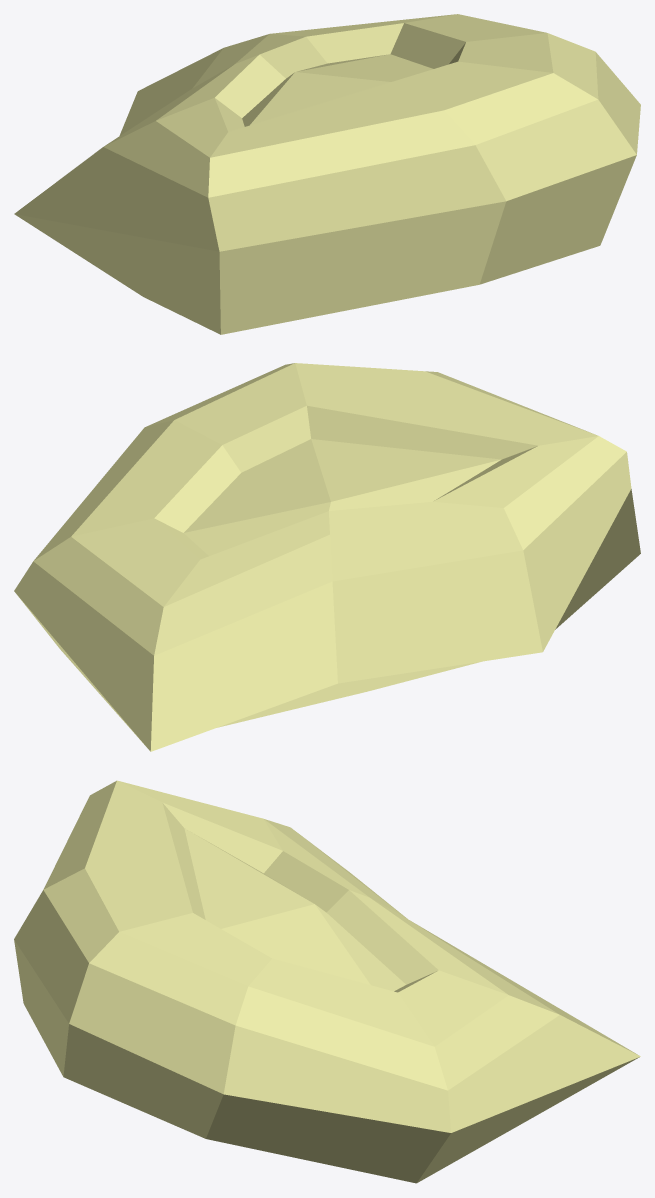
The model's file is Rock_A.FBX.
The picture shows the model from 3 angles, top to bottom: view 1: azimuth 30°, elevation 25°; view 2: azimuth 150°, elevation 25°; view 3: azimuth 270°, elevation 25°; orthographic projection. The views are drawn at different scales.
Parts seen in each view (by area): view 1: Rock_A; view 2: Rock_A; view 3: Rock_A.
Part boxes in pixels (<box>): Rock_A: <box>14,14,640,334</box>; Rock_A: <box>14,363,640,751</box>; Rock_A: <box>14,780,640,1183</box>.
Size of the model in its own units: 623 by 277 by 676.
